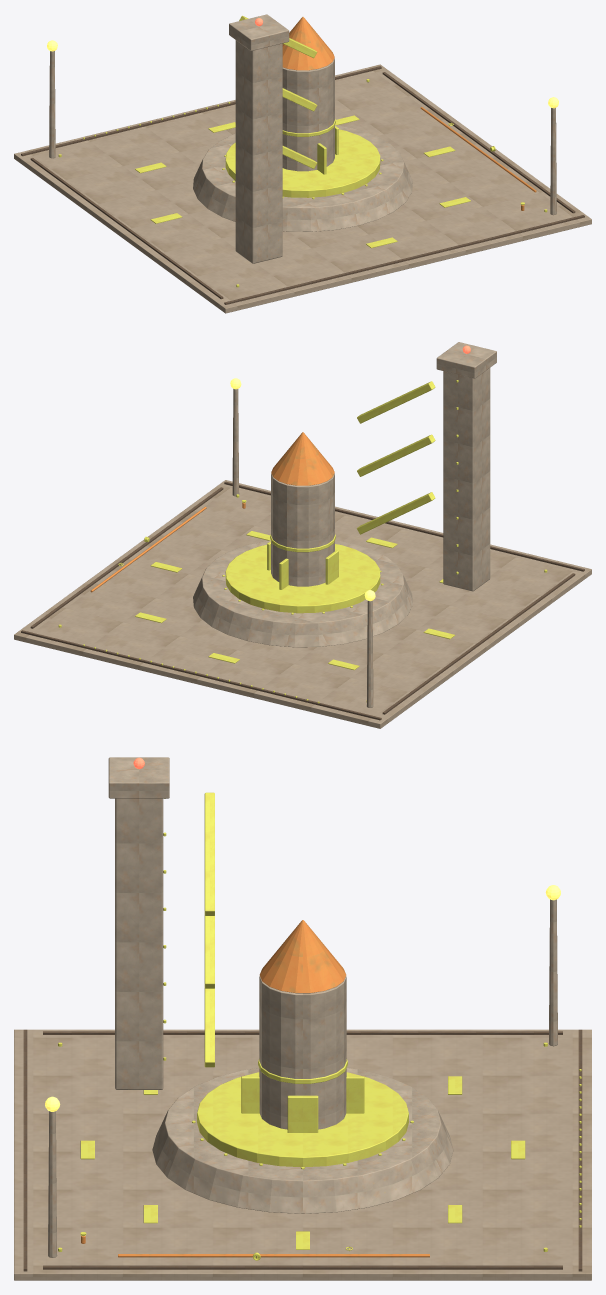
Rendered from ff-silo.glb.
The picture shows the model from 3 angles, top to bottom: view 1: azimuth 30°, elevation 25°; view 2: azimuth 150°, elevation 25°; view 3: azimuth 270°, elevation 25°; orthographic projection. The views are drawn at different scales.
Parts seen in each view (by area): view 1: Pad.016, Gantry, PitRing, Bolt.024, RocketBody, PadLipN.016, RocketNose, GaugeBoss.012, PadPipe.016; view 2: Pad.016, Gantry, PitRing, Bolt.024, RocketBody, PadLipN.016, RocketNose, GaugeBoss.012; view 3: Pad.016, PitRing, Gantry, Bolt.024, RocketBody, PadLipN.016, RocketNose, GaugeBoss.012, PadPipe.016, RocketFin, RocketFin.001, RocketFin.003.
Part boxes in pixels (x1,y1,x2,y2): Pad.016: (14, 64, 591, 313); Gantry: (49, 40, 556, 263); PitRing: (193, 14, 412, 231); Bolt.024: (58, 15, 547, 287); RocketBody: (282, 58, 334, 171); PadLipN.016: (21, 66, 584, 304); RocketNose: (282, 17, 334, 70); GaugeBoss.012: (135, 115, 470, 248); PadPipe.016: (420, 107, 536, 210); Pad.016: (14, 480, 591, 728); Gantry: (232, 368, 490, 707); PitRing: (193, 342, 496, 647); Bolt.024: (58, 380, 547, 703); RocketBody: (271, 473, 334, 586); PadLipN.016: (21, 481, 584, 720); RocketNose: (271, 432, 334, 485); GaugeBoss.012: (120, 531, 455, 670); Pad.016: (14, 1029, 591, 1280); PitRing: (108, 757, 453, 1213); Gantry: (48, 798, 557, 1257); Bolt.024: (58, 792, 581, 1258); RocketBody: (259, 976, 346, 1129); PadLipN.016: (23, 1029, 582, 1271); RocketNose: (259, 920, 346, 993); GaugeBoss.012: (80, 1076, 525, 1249); PadPipe.016: (81, 1235, 429, 1257); RocketFin: (287, 1095, 318, 1132); RocketFin.001: (346, 1076, 364, 1113); RocketFin.003: (241, 1076, 259, 1113).
Size of the model in its own units: 9 by 5.69 by 9.
12 materials, 8 textured.
